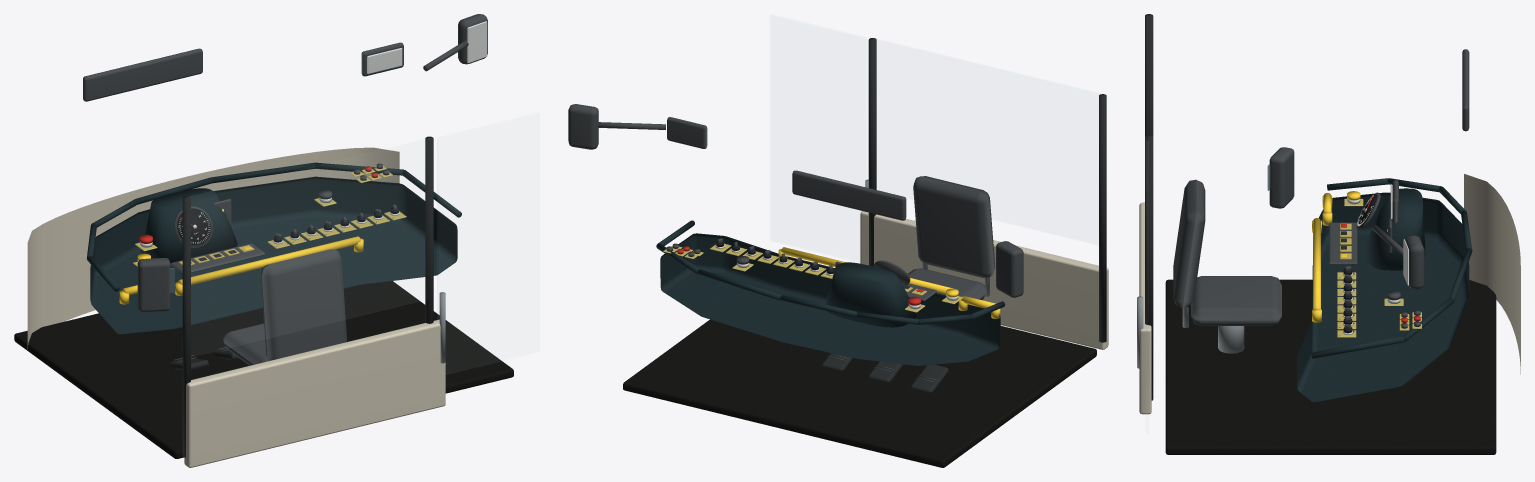
File: cabin.glb
3 views of the same model, side by side, from view 1: azimuth 30°, elevation 25°; view 2: azimuth 150°, elevation 25°; view 3: azimuth 270°, elevation 25° (orthographic). The views are drawn at different scales.
Visible parts, largest first — view 1: DetailedCabin_Interior cream laminate, DetailedCabin_Dashboard worn dark grey green, DetailedCabin_Dark rubber floor, DetailedCabin_Chassis graphite, DetailedCabin_Window seals and rubber, DetailedCabin_Yellow grab rails, DetailedCabin_Chrome trim, DetailedCabin_Cab yellow engraved switch labels, Cab_speedometer_Black Bakelite knobs; view 2: DetailedCabin_Dark rubber floor, DetailedCabin_Dashboard worn dark grey green, DetailedCabin_Chassis graphite, DetailedCabin_Interior cream laminate, DetailedCabin_Window seals and rubber, DetailedCabin_Yellow grab rails, DetailedCabin_Cab yellow engraved switch labels; view 3: DetailedCabin_Dark rubber floor, DetailedCabin_Dashboard worn dark grey green, DetailedCabin_Chassis graphite, DetailedCabin_Interior cream laminate, DetailedCabin_Window seals and rubber, DetailedCabin_Cab yellow engraved switch labels, DetailedCabin_Yellow grab rails, DetailedCabin_Brushed steel, DetailedCabin_Chrome trim.
Part boxes in pixels (left/top/right/bottom): DetailedCabin_Interior cream laminate: left=27, top=147, right=445, bottom=467; DetailedCabin_Dashboard worn dark grey green: left=87, top=162, right=461, bottom=334; DetailedCabin_Dark rubber floor: left=14, top=281, right=513, bottom=458; DetailedCabin_Chassis graphite: left=83, top=14, right=487, bottom=365; DetailedCabin_Window seals and rubber: left=169, top=136, right=433, bottom=457; DetailedCabin_Yellow grab rails: left=119, top=236, right=363, bottom=304; DetailedCabin_Chrome trim: left=138, top=21, right=487, bottom=261; DetailedCabin_Cab yellow engraved switch labels: left=133, top=166, right=406, bottom=266; Cab_speedometer_Black Bakelite knobs: left=177, top=208, right=211, bottom=245; DetailedCabin_Dark rubber floor: left=623, top=319, right=1096, bottom=467; DetailedCabin_Dashboard worn dark grey green: left=656, top=220, right=1005, bottom=365; DetailedCabin_Chassis graphite: left=568, top=104, right=1023, bottom=382; DetailedCabin_Interior cream laminate: left=860, top=211, right=1108, bottom=349; DetailedCabin_Window seals and rubber: left=822, top=38, right=1106, bottom=392; DetailedCabin_Yellow grab rails: left=778, top=247, right=1000, bottom=318; DetailedCabin_Cab yellow engraved switch labels: left=663, top=243, right=962, bottom=312; DetailedCabin_Dark rubber floor: left=1165, top=279, right=1496, bottom=454; DetailedCabin_Dashboard worn dark grey green: left=1297, top=178, right=1472, bottom=401; DetailedCabin_Chassis graphite: left=1173, top=49, right=1469, bottom=332; DetailedCabin_Interior cream laminate: left=1139, top=174, right=1520, bottom=414; DetailedCabin_Window seals and rubber: left=1145, top=14, right=1346, bottom=400; DetailedCabin_Cab yellow engraved switch labels: left=1337, top=198, right=1421, bottom=337; DetailedCabin_Yellow grab rails: left=1312, top=191, right=1360, bottom=322; DetailedCabin_Brushed steel: left=1137, top=271, right=1340, bottom=368; DetailedCabin_Chrome trim: left=1343, top=184, right=1408, bottom=334.
Bounding box in the file's own units: 2.93 × 1.73 × 2.19.
15 materials, 2 textured.
